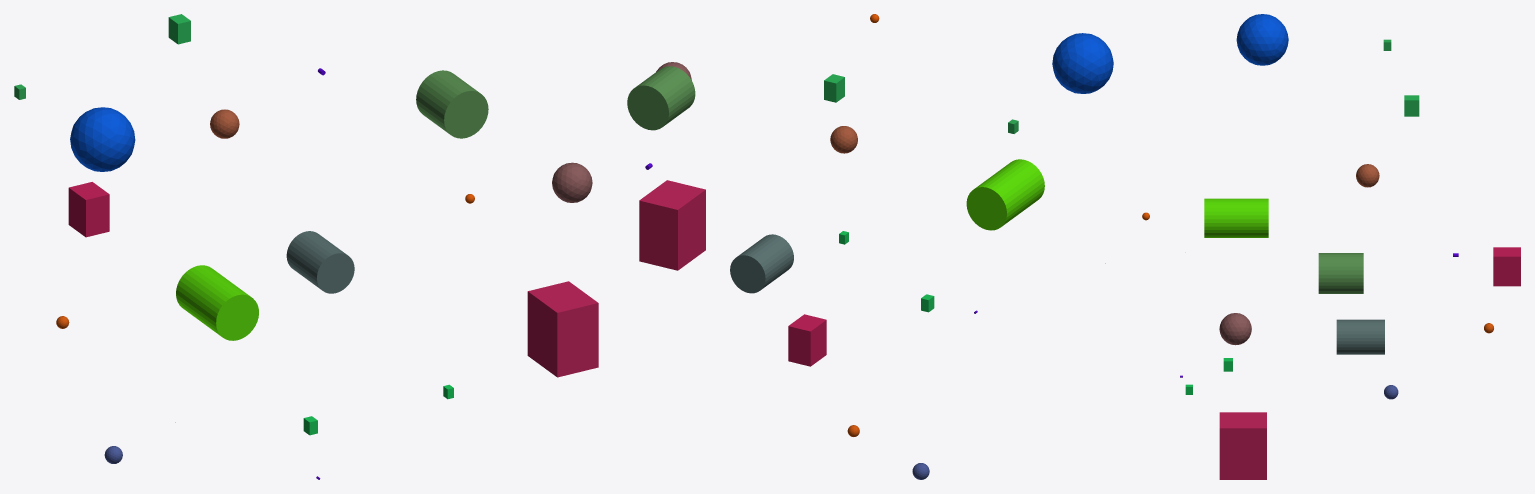
The model's file is scene_trimesh.obj.
The picture shows the model from 3 angles, left to right: view 1: azimuth 30°, elevation 25°; view 2: azimuth 150°, elevation 25°; view 3: azimuth 270°, elevation 25°; orthographic projection. The views are drawn at different scales.
Visible parts, largest first — view 1: geometry_11, geometry_9, geometry_12, geometry_10, geometry_0, geometry_8, geometry_13, geometry_1, geometry_14; view 2: geometry_11, geometry_9, geometry_12, geometry_10, geometry_0, geometry_8, geometry_1, geometry_14; view 3: geometry_11, geometry_9, geometry_10, geometry_12, geometry_0, geometry_8, geometry_13, geometry_1.
Part boxes in pixels (x1,y1,x2,y2): geometry_11: (527,281,598,377); geometry_9: (176,265,258,340); geometry_12: (416,70,488,138); geometry_10: (70,107,135,171); geometry_0: (286,231,354,293); geometry_8: (68,182,109,237); geometry_13: (552,162,592,202); geometry_1: (210,109,239,138); geometry_14: (168,14,190,44); geometry_11: (639,180,705,270); geometry_9: (966,159,1044,230); geometry_12: (627,66,695,130); geometry_10: (1052,33,1113,93); geometry_0: (730,234,793,293); geometry_8: (788,314,826,366); geometry_1: (830,126,857,153); geometry_14: (824,74,844,102); geometry_11: (1219,412,1266,479); geometry_9: (1204,198,1268,237); geometry_10: (1236,14,1288,65); geometry_12: (1318,253,1363,293); geometry_0: (1336,319,1384,354); geometry_8: (1493,247,1520,286); geometry_13: (1219,313,1251,345); geometry_1: (1356,164,1379,187).
Bounding box in the file's own units: 4.3 × 3.58 × 3.54.
